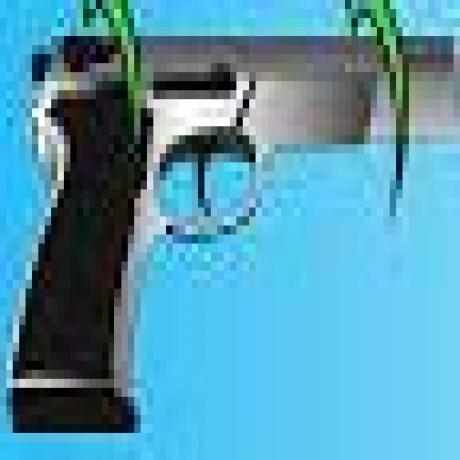weapon: (0, 20, 459, 440)
